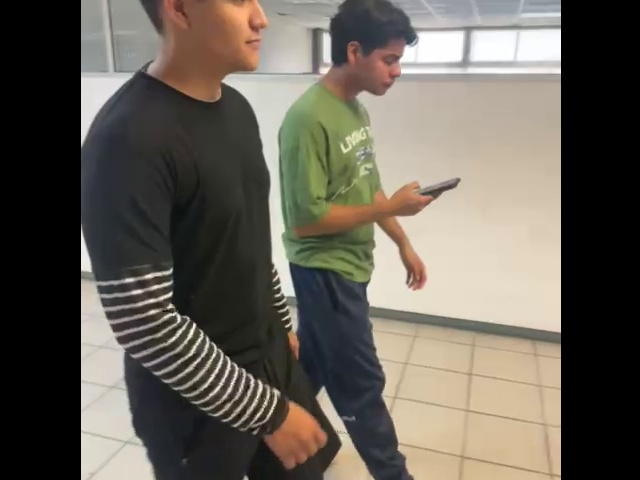mixto2: (418, 165, 465, 206)
